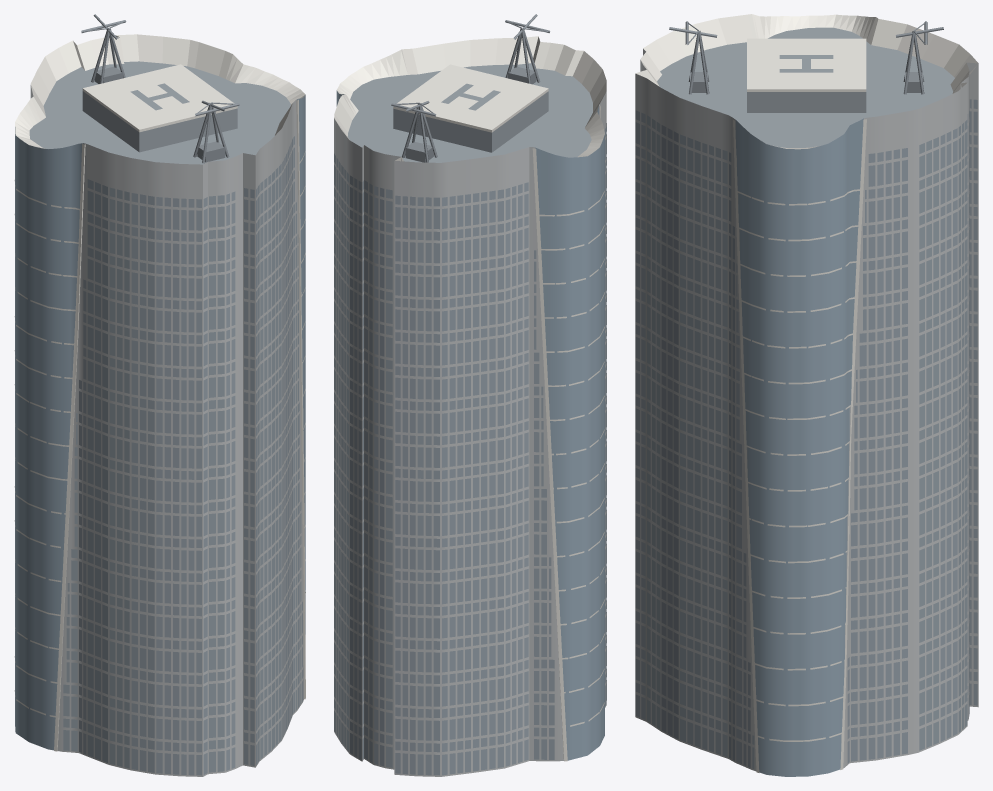
File: tokyo-roppongi-hills-mori-tower.detail.glb
3 views of the same model, side by side, from view 1: azimuth 30°, elevation 25°; view 2: azimuth 150°, elevation 25°; view 3: azimuth 270°, elevation 25° (orthographic). The views are drawn at different scales.
Visible parts, largest first — view 1: Roppongi Hills Mori Tower; view 2: Roppongi Hills Mori Tower; view 3: Roppongi Hills Mori Tower.
Part boxes in pixels (box(x1,y1,x2,y2)): Roppongi Hills Mori Tower: box(14, 14, 305, 776); Roppongi Hills Mori Tower: box(334, 14, 606, 776); Roppongi Hills Mori Tower: box(635, 14, 978, 776).
Size of the model in its own units: 106 by 253 by 115.
